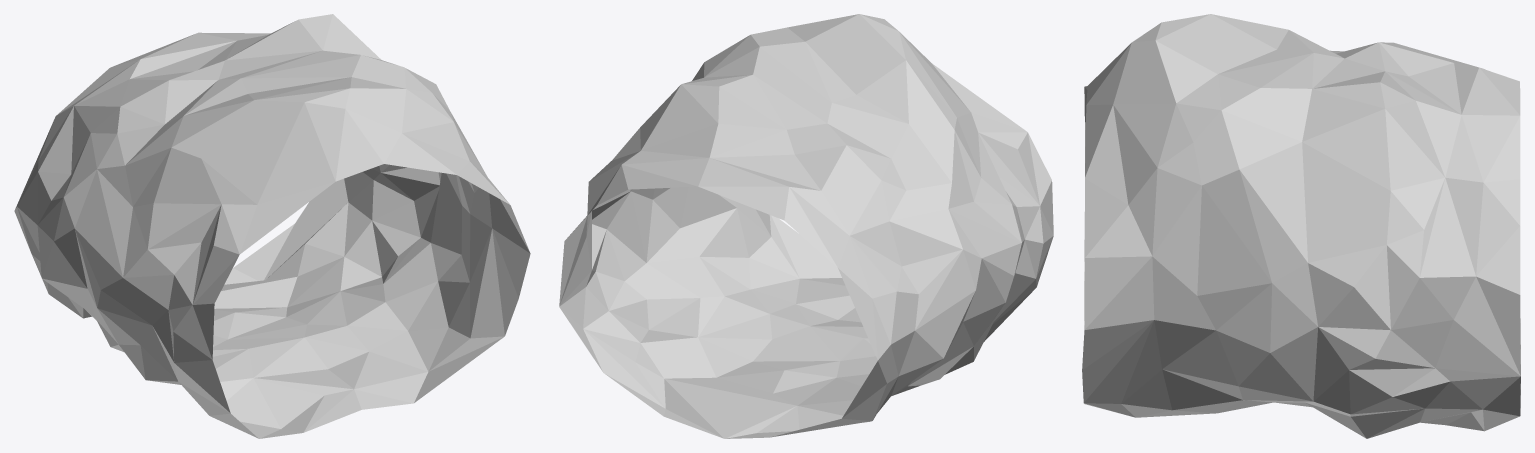
Rendered from Straight_Short_Rock_2.glb.
3 renders of one model, left to right at view 1: azimuth 30°, elevation 25°; view 2: azimuth 150°, elevation 25°; view 3: azimuth 270°, elevation 25°, orthographic. The views are drawn at different scales.
Parts seen in each view (by area): view 1: Straight_Short_Rock_2; view 2: Straight_Short_Rock_2; view 3: Straight_Short_Rock_2.
Boxes of the visible parts, x1=… form: Straight_Short_Rock_2: x1=14, y1=14, x2=530, y2=438; Straight_Short_Rock_2: x1=559, y1=14, x2=1053, y2=438; Straight_Short_Rock_2: x1=1082, y1=14, x2=1520, y2=438.
Size of the model in its own units: 119 by 91.38 by 101.
Materials: 1 (1 with a texture image).
